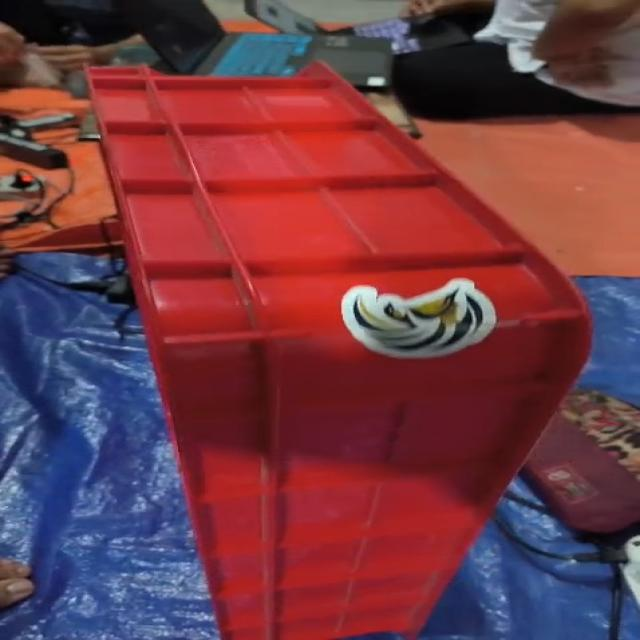red plastic box: (86, 62, 596, 639)
